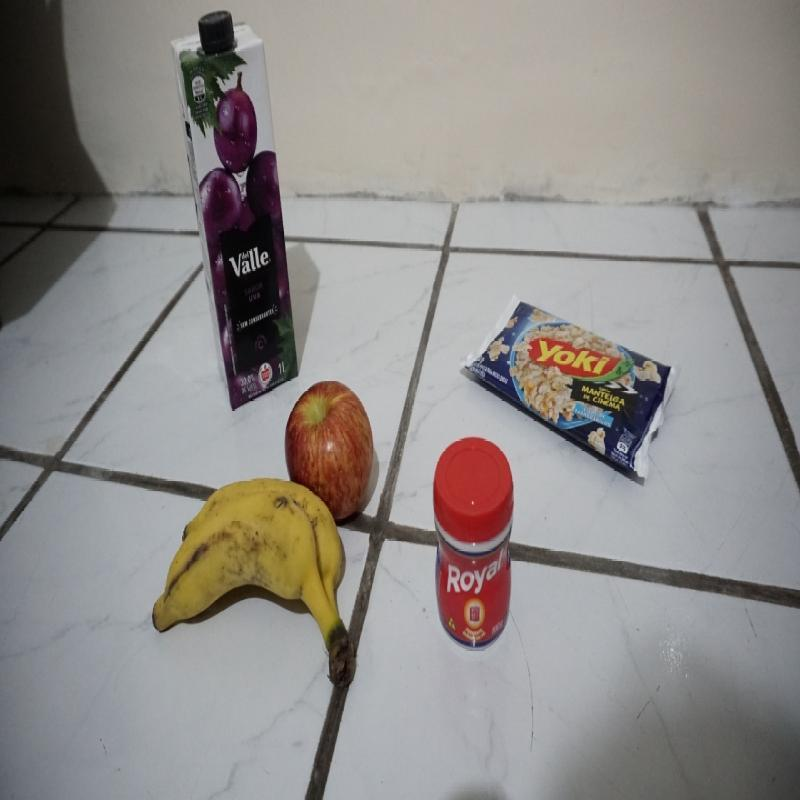Yeast: (432, 434, 514, 650)
